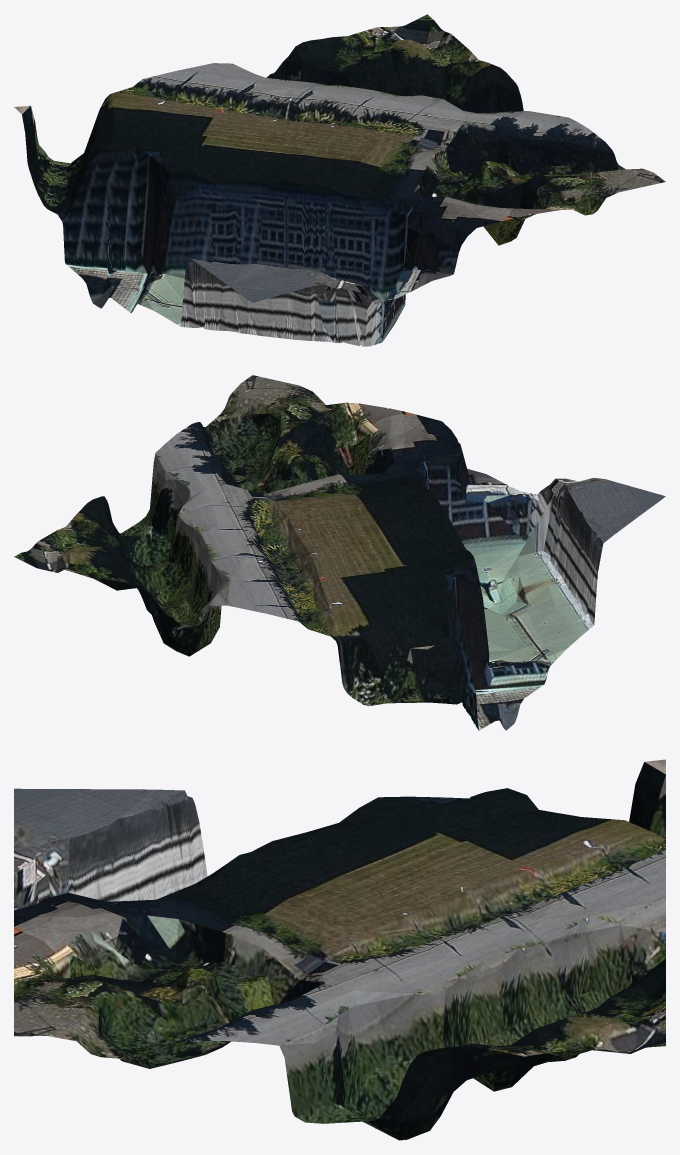
Rendered from map_15_8184_13787.dae.
The picture shows the model from 3 angles, top to bottom: view 1: azimuth 30°, elevation 25°; view 2: azimuth 150°, elevation 25°; view 3: azimuth 270°, elevation 25°; orthographic projection. The views are drawn at different scales.
Parts seen in each view (by area): view 1: Ter0; view 2: Ter0; view 3: Ter0.
Part boxes in pixels (<box>): Ter0: <box>14,14,665,346</box>; Ter0: <box>14,375,665,730</box>; Ter0: <box>14,759,665,1140</box>.
Bounding box in the file's own units: 63.88 × 63.88 × 20.75.
3 materials, 3 textured.
